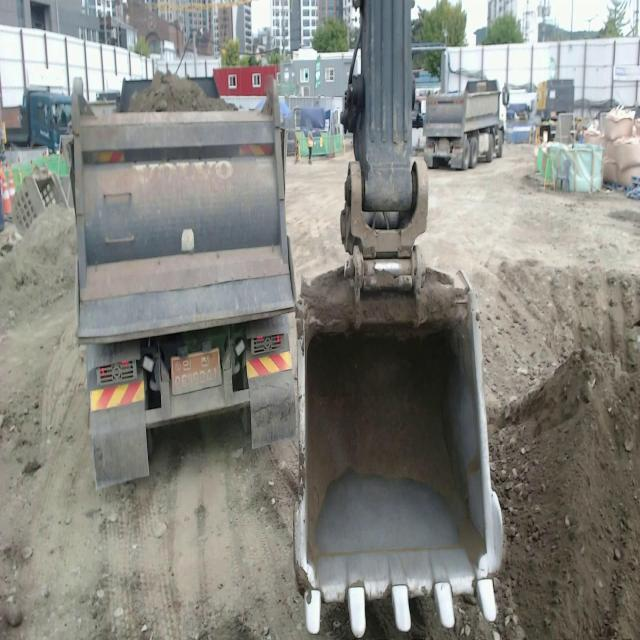sand: (0, 206, 313, 639), (408, 143, 640, 639), (287, 140, 352, 284)
